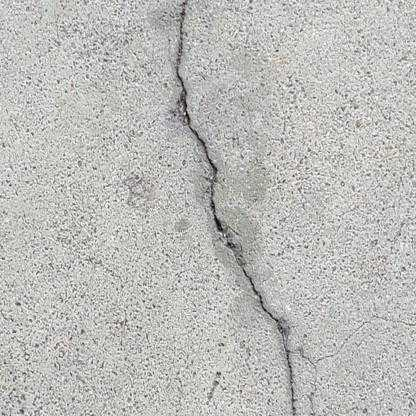crack: (173, 2, 296, 415)
